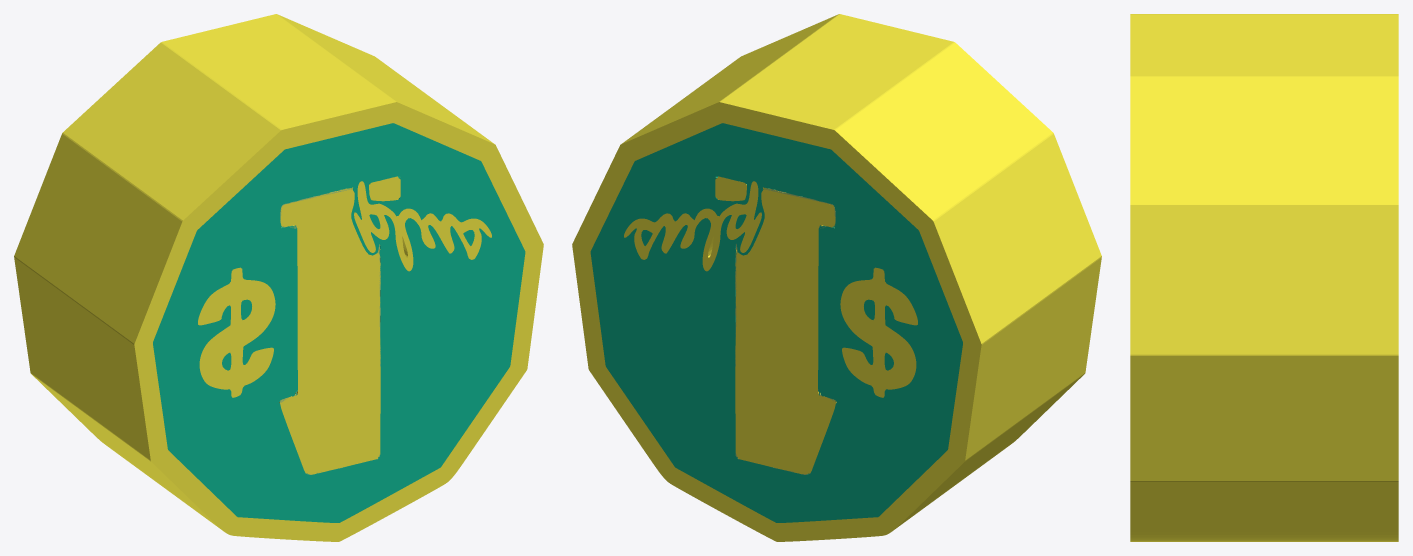
The picture shows the model from 3 angles, left to right: view 1: azimuth 30°, elevation 25°; view 2: azimuth 150°, elevation 25°; view 3: azimuth 270°, elevation 25°; orthographic projection. The views are drawn at different scales.
Visible parts, largest first — view 1: imagetostl_mesh5, imagetostl_mesh0, imagetostl_mesh7, imagetostl_mesh9, imagetostl_mesh6, imagetostl_mesh8; view 2: imagetostl_mesh5, imagetostl_mesh0, imagetostl_mesh7, imagetostl_mesh9, imagetostl_mesh6, imagetostl_mesh8; view 3: imagetostl_mesh5.
Part boxes in pixels (<box>): imagetostl_mesh5: <box>14,14,543,541</box>; imagetostl_mesh0: <box>153,123,525,522</box>; imagetostl_mesh7: <box>279,187,380,474</box>; imagetostl_mesh9: <box>198,267,275,397</box>; imagetostl_mesh6: <box>354,181,491,271</box>; imagetostl_mesh8: <box>369,176,400,201</box>; imagetostl_mesh5: <box>572,14,1101,541</box>; imagetostl_mesh0: <box>590,123,962,522</box>; imagetostl_mesh7: <box>735,187,836,474</box>; imagetostl_mesh9: <box>840,267,917,397</box>; imagetostl_mesh6: <box>624,181,761,271</box>; imagetostl_mesh8: <box>715,176,746,201</box>; imagetostl_mesh5: <box>1130,14,1398,541</box>.
Bounding box in the file's own units: 393 × 390 × 200.
